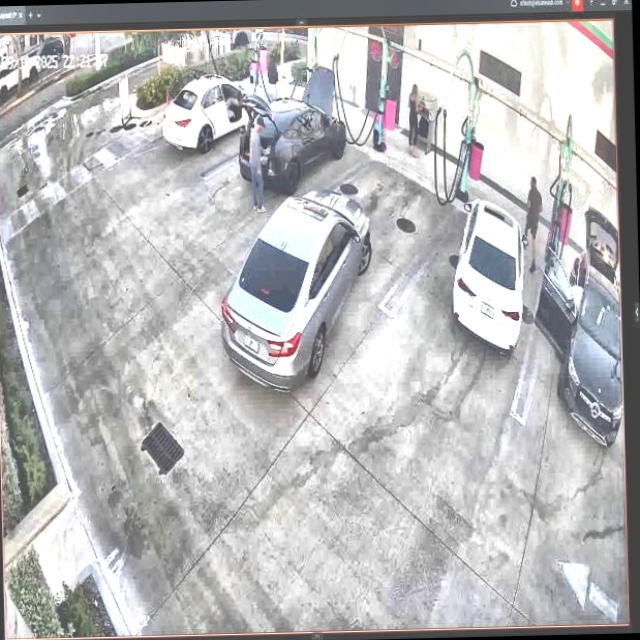Car: (220, 187, 377, 391), (236, 67, 348, 194), (445, 187, 524, 354), (159, 74, 269, 162)
